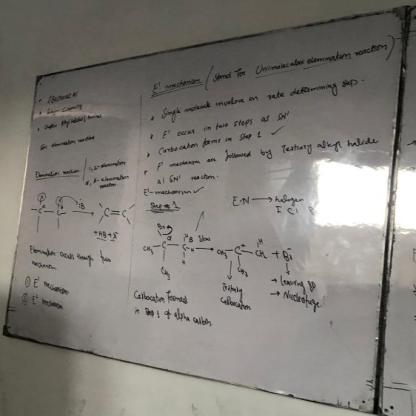Handwritten text: (156, 70, 361, 125), (207, 37, 392, 86), (164, 132, 383, 173), (170, 105, 290, 141), (154, 132, 239, 157), (131, 287, 194, 306)
